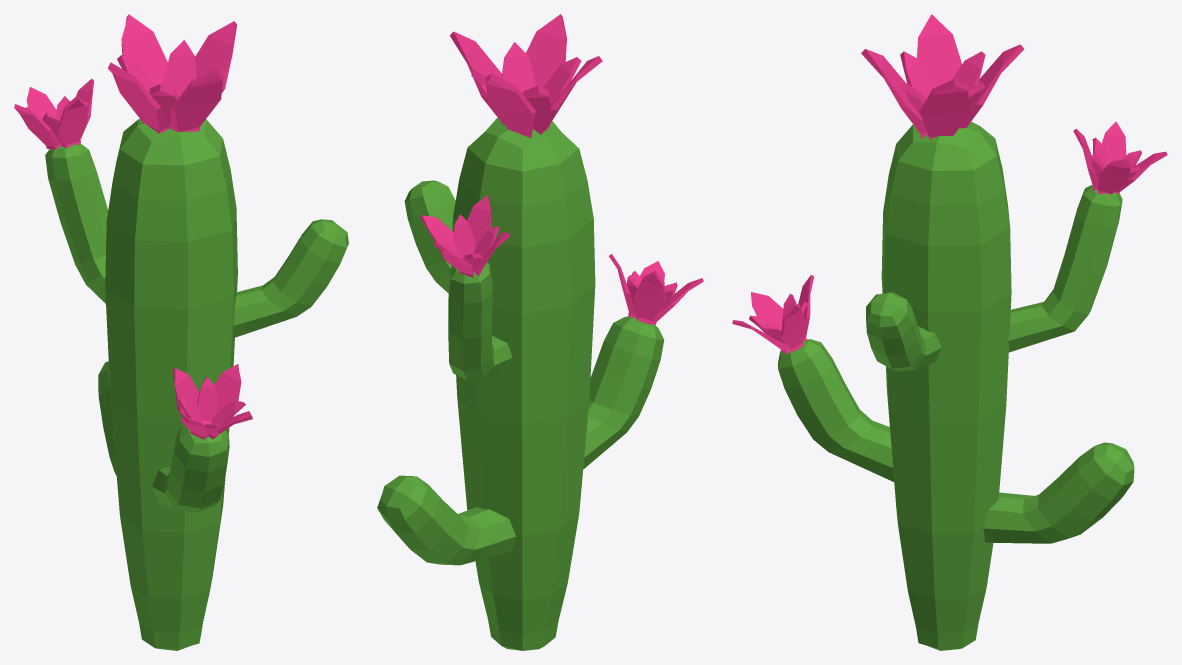
File: Cactus_Flower_5.gltf
3 views of the same model, side by side, from view 1: azimuth 30°, elevation 25°; view 2: azimuth 150°, elevation 25°; view 3: azimuth 270°, elevation 25° (orthographic).
Parts seen in each view (by area): view 1: CactusFlowers_2; view 2: CactusFlowers_2; view 3: CactusFlowers_2.
Part boxes in pixels (left/top/right/bottom): CactusFlowers_2: left=14, top=14, right=348, bottom=650; CactusFlowers_2: left=377, top=14, right=703, bottom=650; CactusFlowers_2: left=732, top=14, right=1167, bottom=650.
Bounding box in the file's own units: 0.7654 × 1.94 × 1.28.
